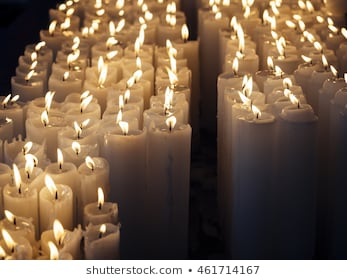Fire: (9, 163, 27, 192), (271, 31, 288, 56), (72, 117, 92, 138), (95, 57, 109, 87), (1, 229, 20, 249), (51, 219, 68, 241), (43, 174, 60, 196), (126, 68, 143, 89), (163, 116, 182, 132), (117, 120, 134, 137), (4, 208, 22, 224), (163, 89, 175, 113), (84, 154, 98, 174), (242, 76, 256, 96), (249, 105, 266, 121), (79, 94, 94, 112), (96, 187, 108, 208), (283, 91, 301, 105), (67, 48, 80, 67), (43, 90, 56, 109), (56, 148, 67, 170), (166, 67, 180, 84), (39, 110, 52, 128), (135, 31, 146, 51), (230, 57, 242, 74), (180, 22, 191, 40), (70, 140, 83, 155), (327, 63, 340, 78), (116, 94, 127, 109), (132, 56, 145, 68), (48, 19, 58, 34), (301, 55, 316, 65), (109, 19, 118, 35), (24, 69, 35, 82), (22, 142, 33, 154), (281, 77, 293, 88), (2, 93, 12, 106), (28, 50, 41, 60), (97, 223, 108, 234), (285, 19, 297, 29), (266, 57, 275, 68), (137, 15, 146, 24)
